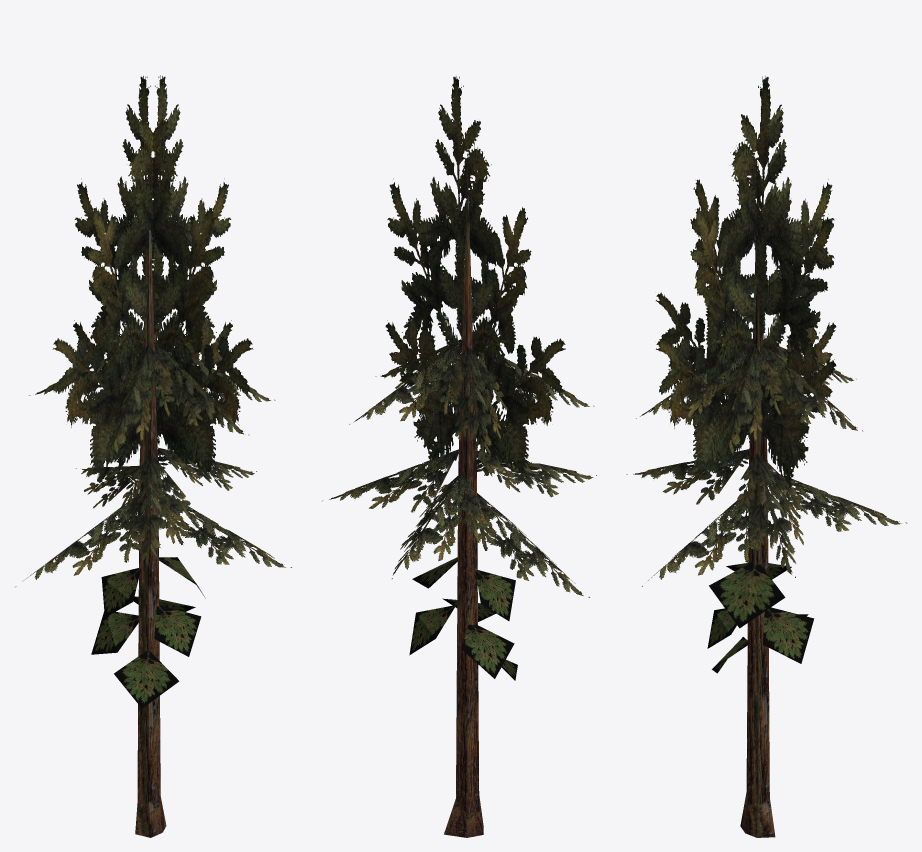
File: sm_fir_.obj
3 renders of one model, left to right at view 1: azimuth 30°, elevation 25°; view 2: azimuth 150°, elevation 25°; view 3: azimuth 270°, elevation 25°, orthographic.
Visible parts, largest first — view 1: sm_fir_; view 2: sm_fir_; view 3: sm_fir_.
Boxes of the visible parts, x1=… form: sm_fir_: x1=15, y1=75, x2=291, y2=837; sm_fir_: x1=322, y1=76, x2=596, y2=837; sm_fir_: x1=626, y1=76, x2=907, y2=837.
Size of the model in its own units: 9.5 by 26.91 by 9.04.
3 materials, 3 textured.
